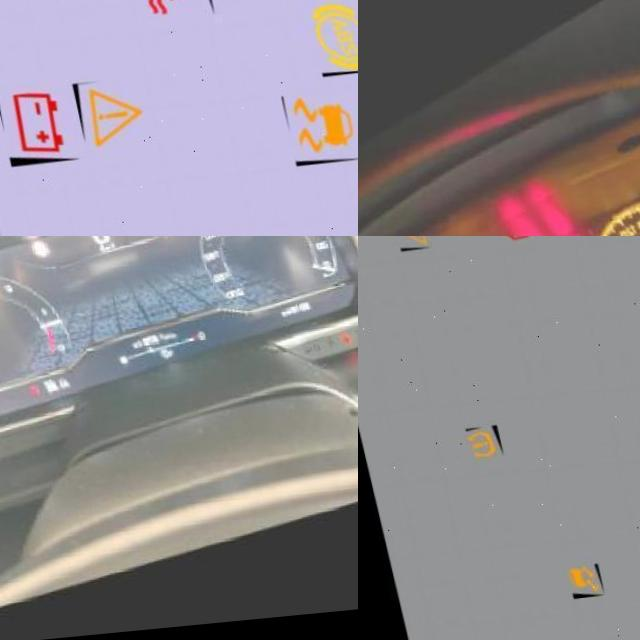Low fuel level: (137, 358, 150, 370)
